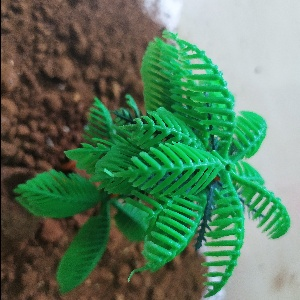plant: (18, 32, 291, 300)
